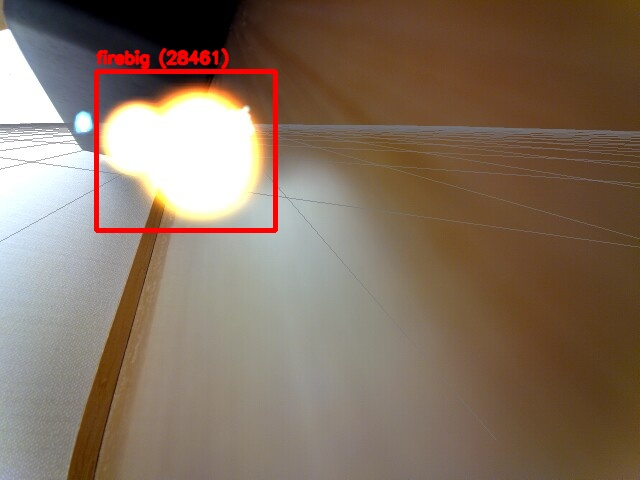firebig: (96, 71, 275, 230)
